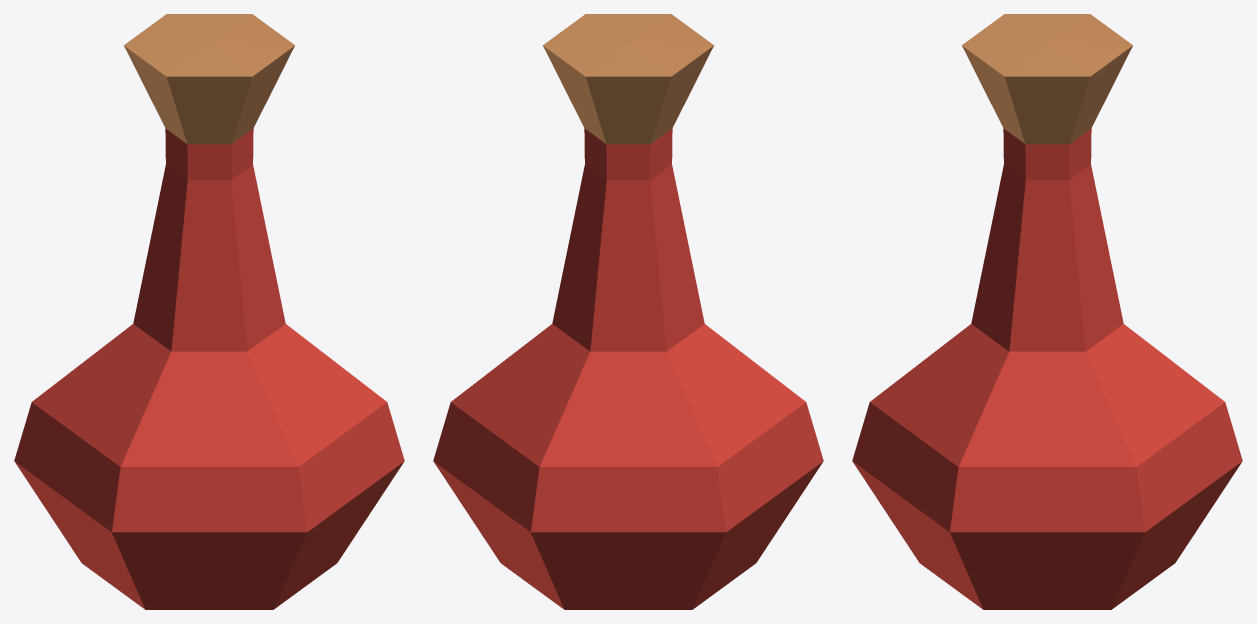
The model's file is Potion.fbx.
3 views of the same model, side by side, from view 1: azimuth 30°, elevation 25°; view 2: azimuth 150°, elevation 25°; view 3: azimuth 270°, elevation 25° (orthographic).
Visible parts, largest first — view 1: Potion; view 2: Potion; view 3: Potion.
Boxes of the visible parts, x1,y1,x2,y2 form: Potion: (14, 14, 404, 609); Potion: (433, 14, 823, 609); Potion: (852, 14, 1242, 609).
Bounding box in the file's own units: 0.2454 × 0.4163 × 0.2834.
